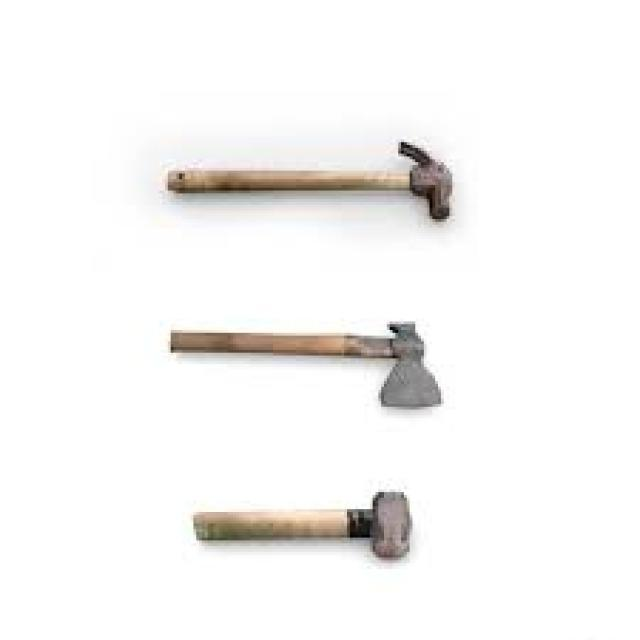Palu: (150, 114, 473, 244), (193, 492, 430, 586)
